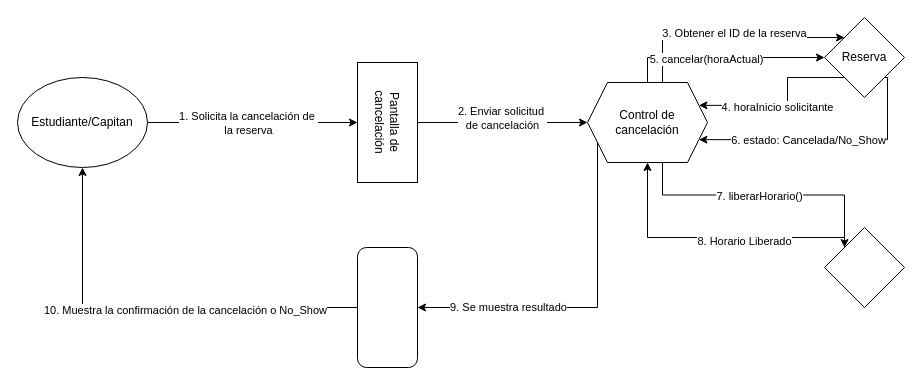
Image size: 922x385. Some labels were removed from this diagram. The shapes that lost their labels are listed below. From the top down, each one's centre as x and y in pixels, then its label:
At [864,267]: "Cancha".
At [387,307]: "Pantalla de confirmación de cancelación".
